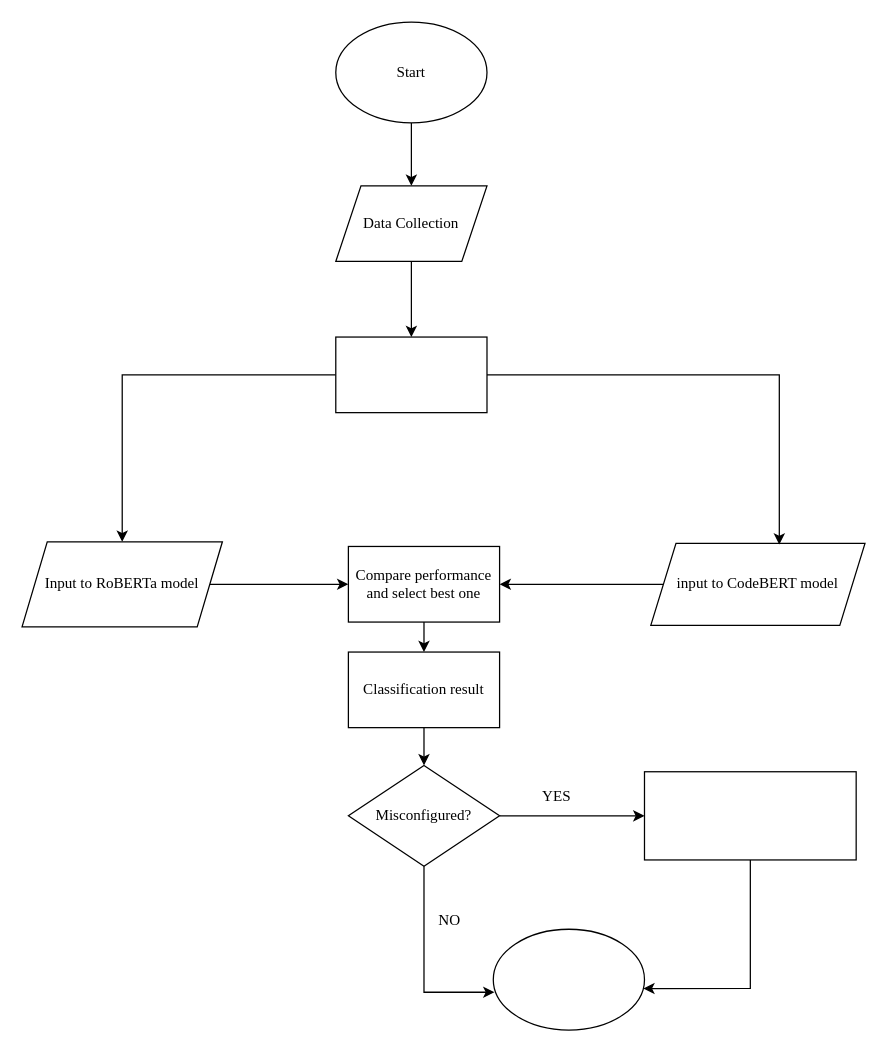
Image size: 887x1052. Some labels were removed from this diagram. The centre of each missing label's shape, as x and y in pixels:
Initialization and Data Preprocessing: the point at 411,374
Misconfiguration Details: the point at 749,815
STOP: the point at 568,979
